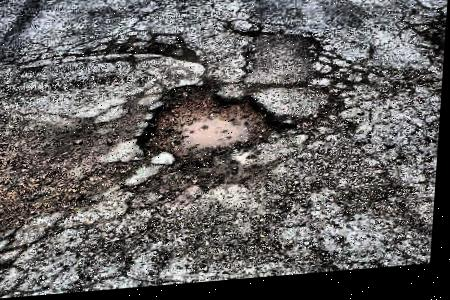pothole: (132, 76, 299, 176)
